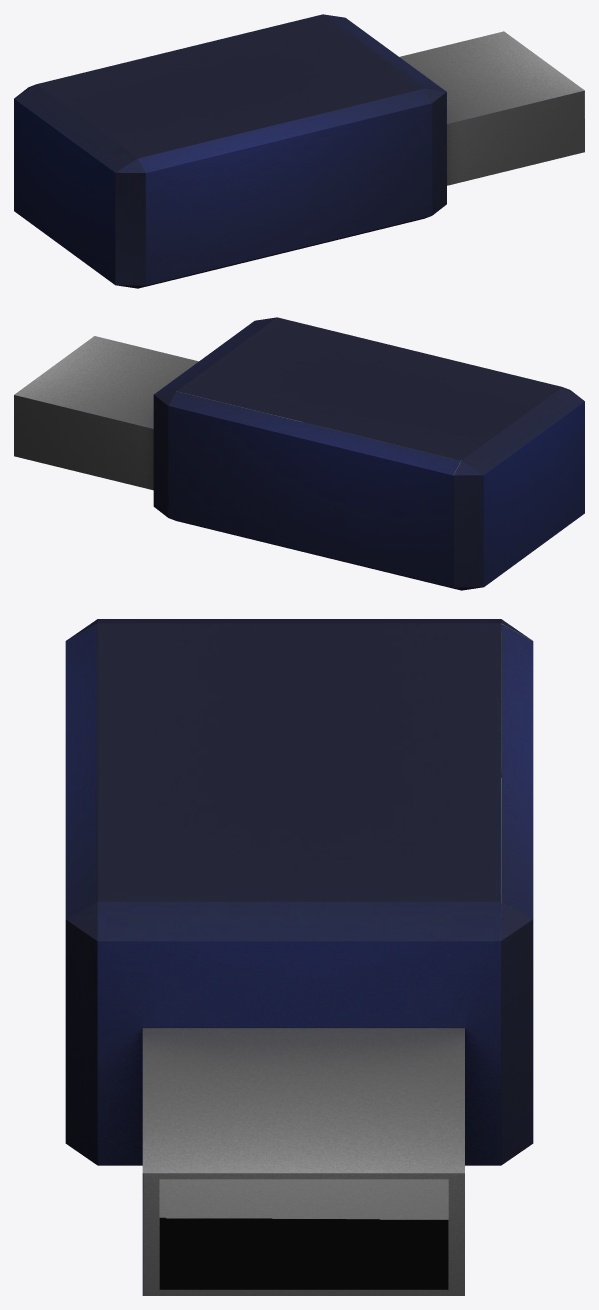
The model's file is weaponpart2.dae.
3 views of the same model, one above another, from view 1: azimuth 30°, elevation 25°; view 2: azimuth 150°, elevation 25°; view 3: azimuth 270°, elevation 25° (orthographic). The views are drawn at different scales.
Visible parts, largest first — view 1: Cube; view 2: Cube; view 3: Cube.
Part boxes in pixels (box(x1,y1,x2,y2)): Cube: box(14, 14, 584, 288); Cube: box(14, 317, 584, 590); Cube: box(65, 619, 533, 1295).
Bounding box in the file's own units: 3.02 × 1.28 × 0.7814.
Materials: 1 (1 with a texture image).
